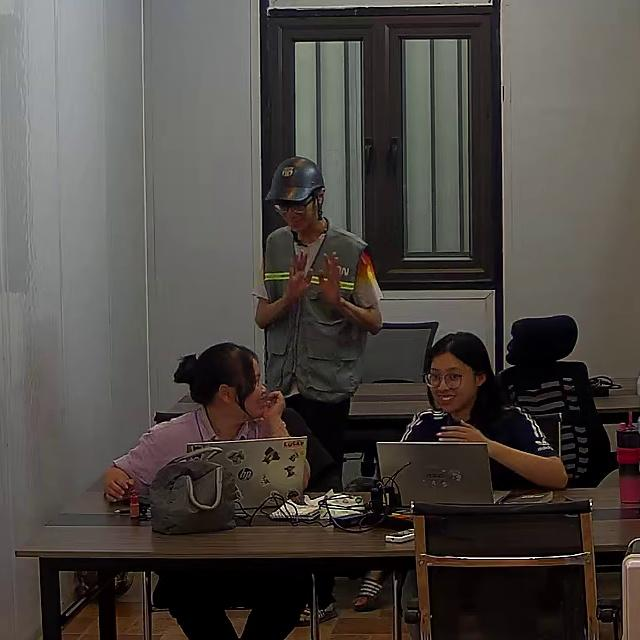helmet: (263, 155, 327, 203)
no_helmet: (423, 332, 500, 421), (175, 342, 259, 413)
none: (398, 402, 560, 493), (112, 406, 264, 497)
vest: (255, 224, 381, 404)
